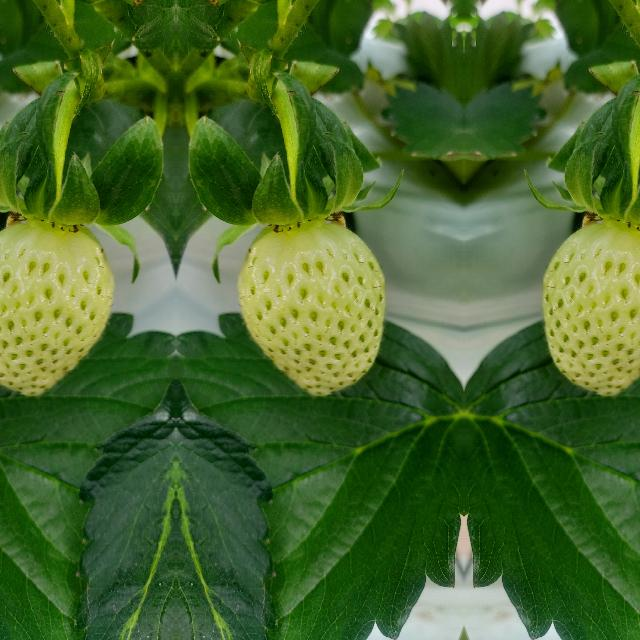Health_25: (235, 219, 385, 397), (0, 219, 115, 397), (541, 219, 640, 397)
